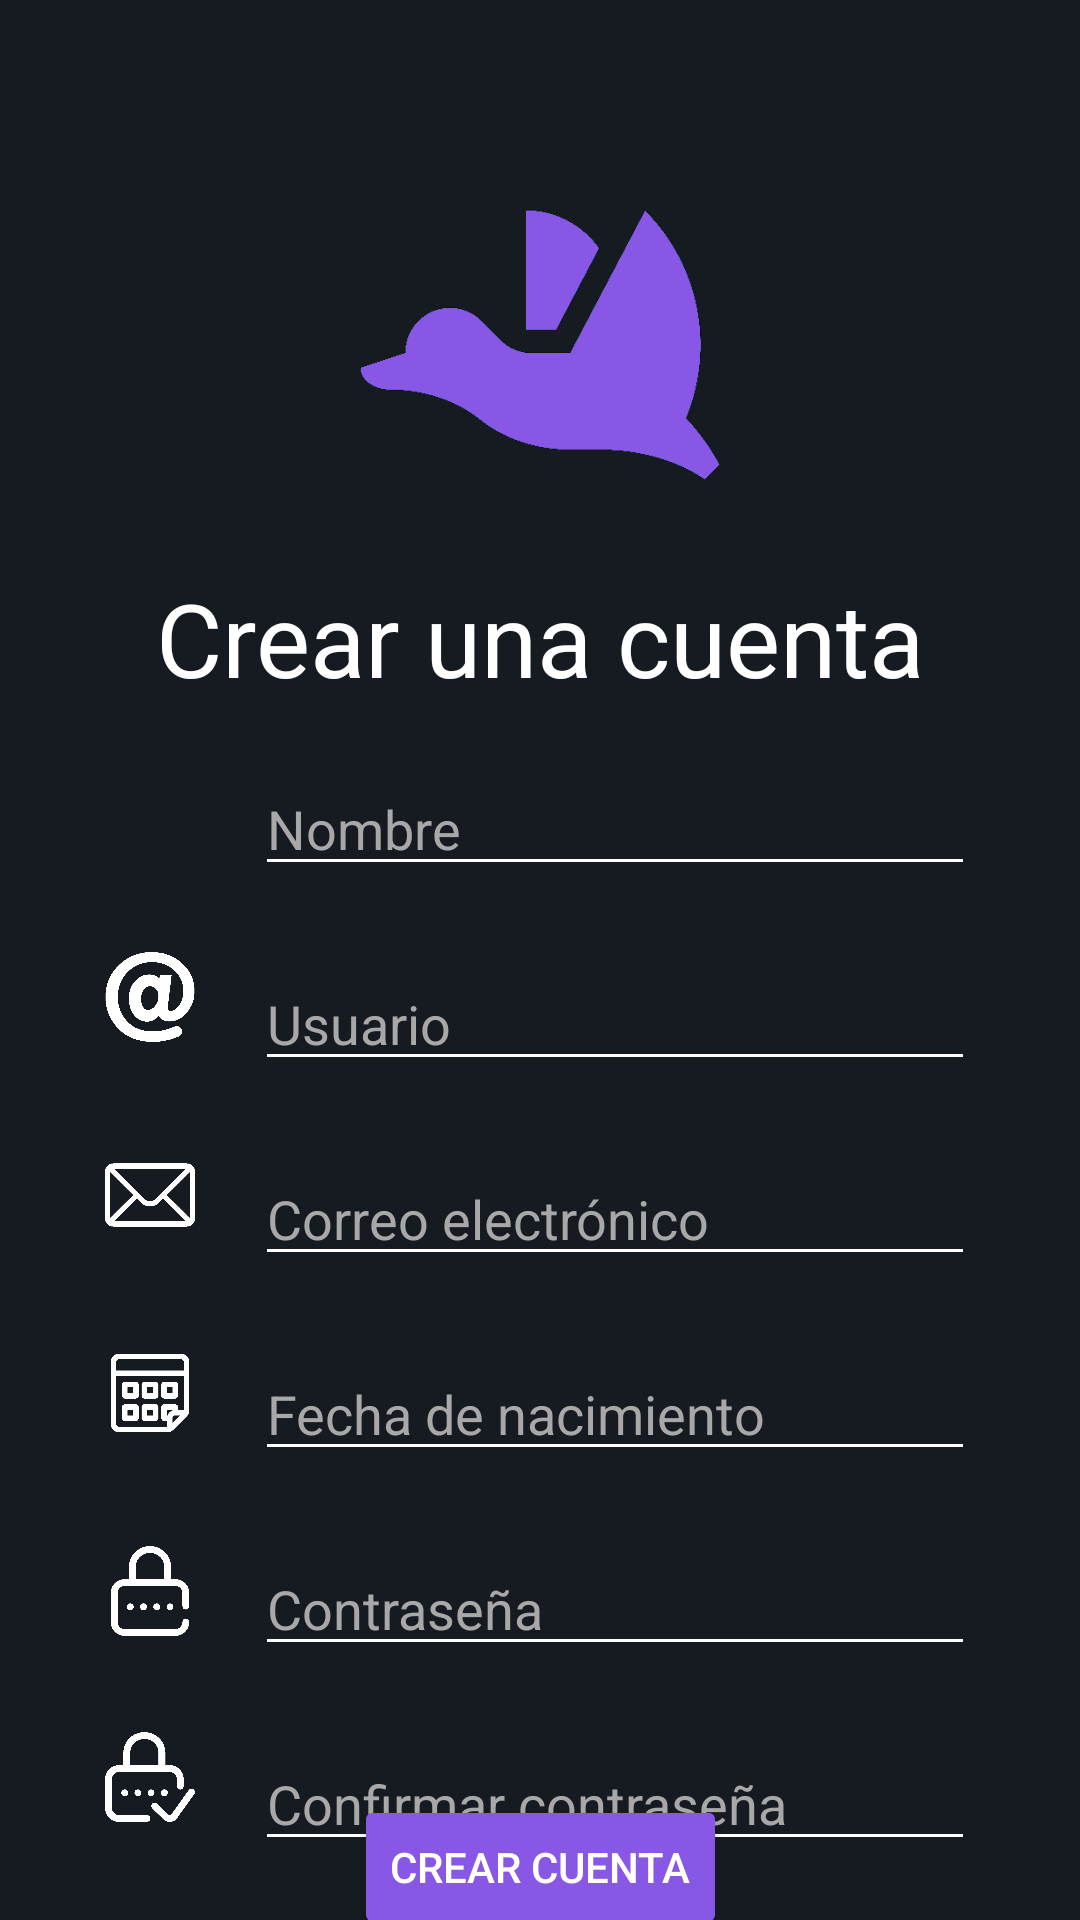

Named icons in this screenshot (1080px x 1920px) and their centers, (x=x, y=y):
calendar: (x=150, y=1393)
mail: (x=150, y=1195)
password check: (x=150, y=1777)
passwordwhite: (x=150, y=1591)
